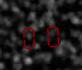zero: (19, 21, 40, 50), (41, 20, 62, 48)
